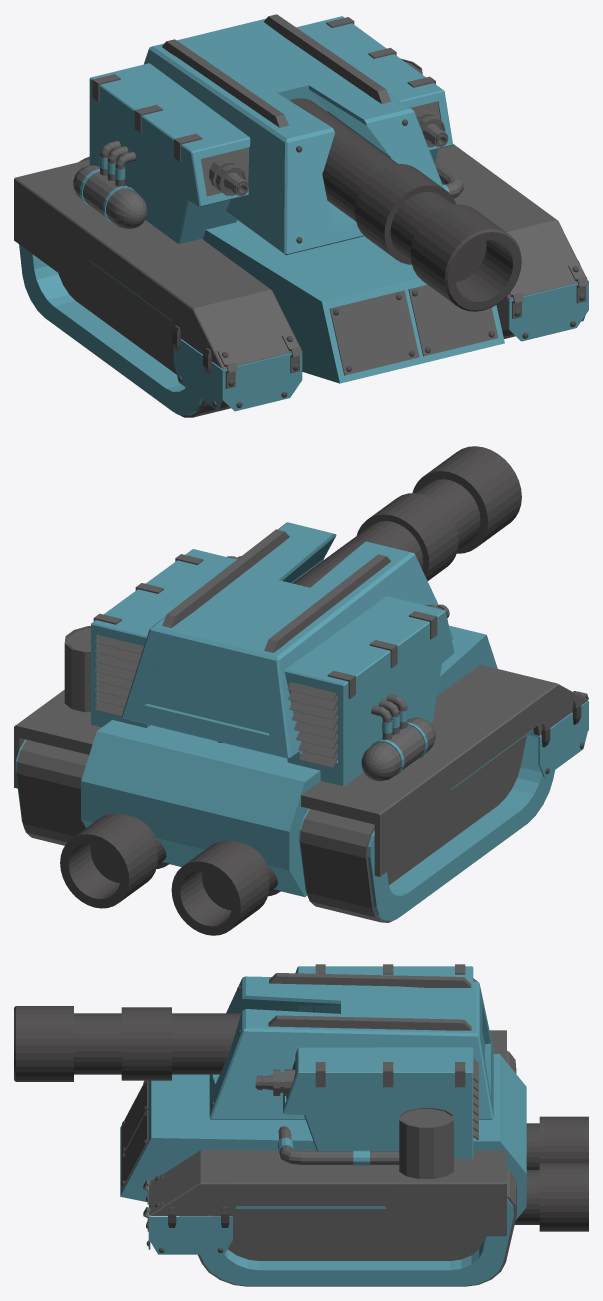
File: BigTank.fbx
3 renders of one model, top to bottom at view 1: azimuth 30°, elevation 25°; view 2: azimuth 150°, elevation 25°; view 3: azimuth 270°, elevation 25°, orthographic. The views are drawn at different scales.
Parts seen in each view (by area): view 1: Cube.064; view 2: Cube.064; view 3: Cube.064.
Boxes of the visible parts, x1,y1,x2,y2 form: Cube.064: [14, 14, 588, 417]; Cube.064: [14, 446, 588, 935]; Cube.064: [14, 964, 588, 1286].
Bounding box in the file's own units: 462 × 300 × 719.
